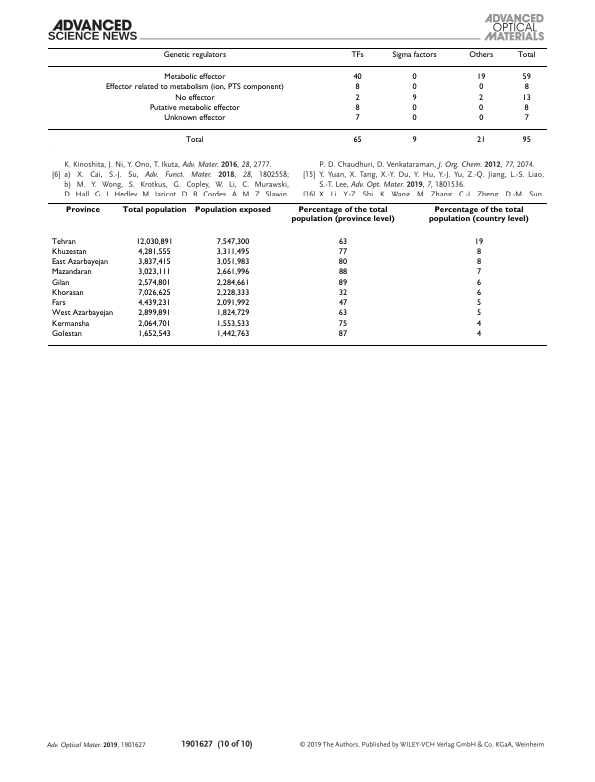borderless: (47, 201, 547, 345), (46, 46, 548, 153)
cell: (290, 206, 395, 224), (428, 206, 529, 224), (104, 83, 284, 93), (148, 103, 240, 113), (194, 206, 271, 215), (162, 50, 227, 60), (121, 206, 187, 215), (50, 309, 114, 318), (163, 73, 226, 82), (163, 114, 226, 123), (50, 258, 109, 267), (391, 50, 437, 60), (174, 93, 215, 103), (50, 319, 90, 329), (135, 237, 173, 247), (50, 268, 92, 277), (50, 247, 87, 257), (215, 237, 250, 247), (215, 247, 250, 257), (215, 278, 250, 288), (215, 288, 250, 298), (215, 319, 250, 329), (215, 329, 250, 339), (137, 247, 171, 257), (137, 278, 171, 288), (50, 288, 84, 298), (137, 288, 171, 298), (137, 319, 171, 329), (137, 329, 171, 339), (50, 329, 82, 339), (65, 206, 100, 215), (215, 258, 250, 267), (215, 268, 250, 277), (215, 299, 250, 308), (215, 309, 250, 318), (137, 258, 171, 267), (137, 268, 171, 277), (137, 299, 171, 308), (137, 309, 171, 318), (50, 237, 76, 247), (468, 50, 494, 60), (50, 278, 70, 288), (516, 50, 536, 60), (185, 136, 204, 146), (50, 299, 66, 308), (350, 50, 364, 60), (337, 237, 348, 247), (473, 237, 484, 247), (337, 247, 348, 257), (337, 278, 348, 288), (337, 288, 348, 298), (337, 319, 348, 329), (337, 329, 348, 339), (521, 93, 531, 103), (352, 136, 362, 146), (476, 136, 486, 146), (521, 136, 531, 146), (337, 258, 348, 267), (337, 268, 348, 277), (337, 299, 348, 308), (337, 309, 348, 318), (352, 73, 362, 82), (476, 73, 486, 82), (521, 73, 531, 82), (475, 288, 482, 298), (475, 329, 482, 339), (475, 258, 482, 267), (475, 268, 482, 277), (475, 299, 482, 308), (475, 309, 482, 318), (475, 247, 481, 257), (475, 278, 481, 288), (475, 319, 481, 329), (354, 83, 360, 93), (411, 83, 417, 93), (478, 83, 484, 93), (523, 83, 529, 93), (354, 93, 360, 103), (411, 93, 417, 103), (478, 93, 484, 103), (354, 103, 360, 113), (411, 103, 417, 113), (478, 103, 484, 113), (523, 103, 529, 113), (411, 136, 417, 146), (411, 73, 417, 82), (354, 114, 360, 123), (411, 114, 417, 123), (478, 114, 484, 123), (523, 114, 529, 123)
